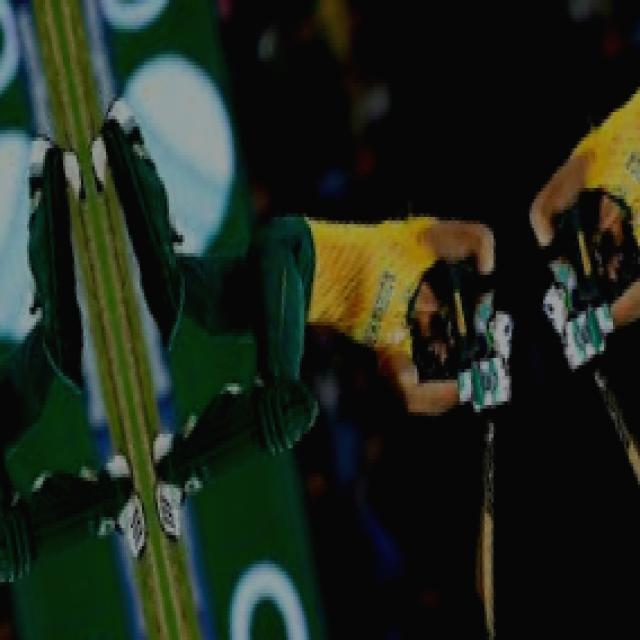bat: (472, 420, 500, 640)
